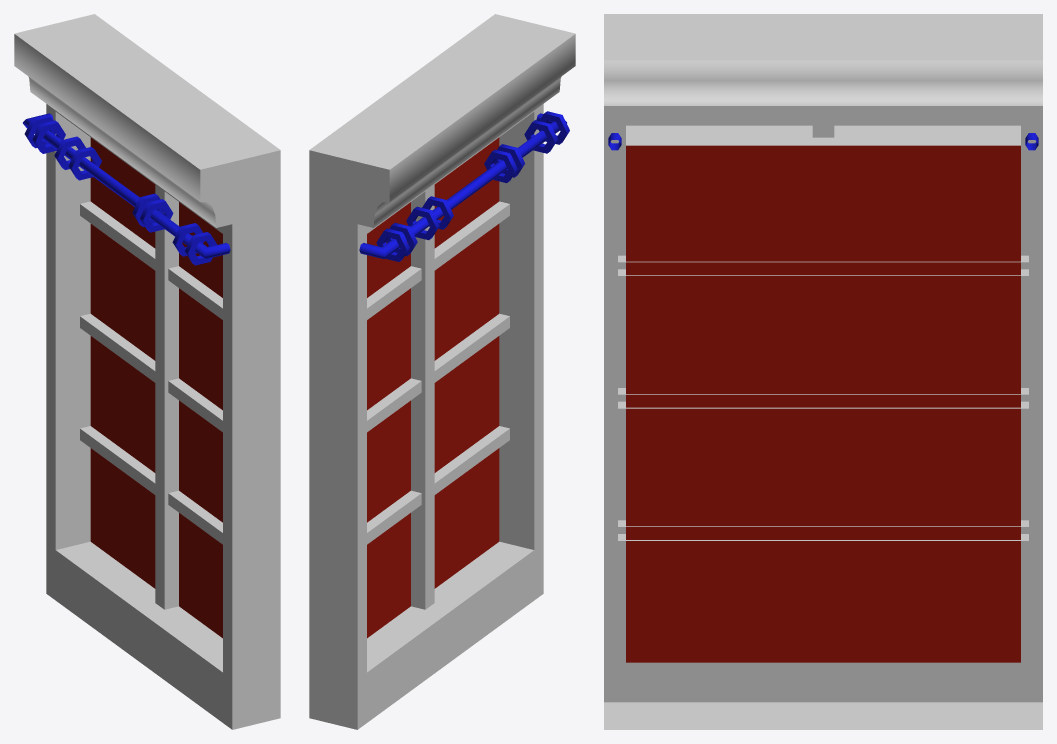
The model's file is SM_Window_02.fbx.
3 views of the same model, side by side, from view 1: azimuth 30°, elevation 25°; view 2: azimuth 150°, elevation 25°; view 3: azimuth 270°, elevation 25° (orthographic). The views are drawn at different scales.
Visible parts, largest first — view 1: SM_Window_02; view 2: SM_Window_02; view 3: SM_Window_02.
Boxes of the visible parts, x1,y1,x2,y2 form: SM_Window_02: (14, 14, 280, 729); SM_Window_02: (309, 14, 575, 729); SM_Window_02: (604, 14, 1042, 729).
Size of the model in its own units: 10.25 by 66.31 by 39.37.
